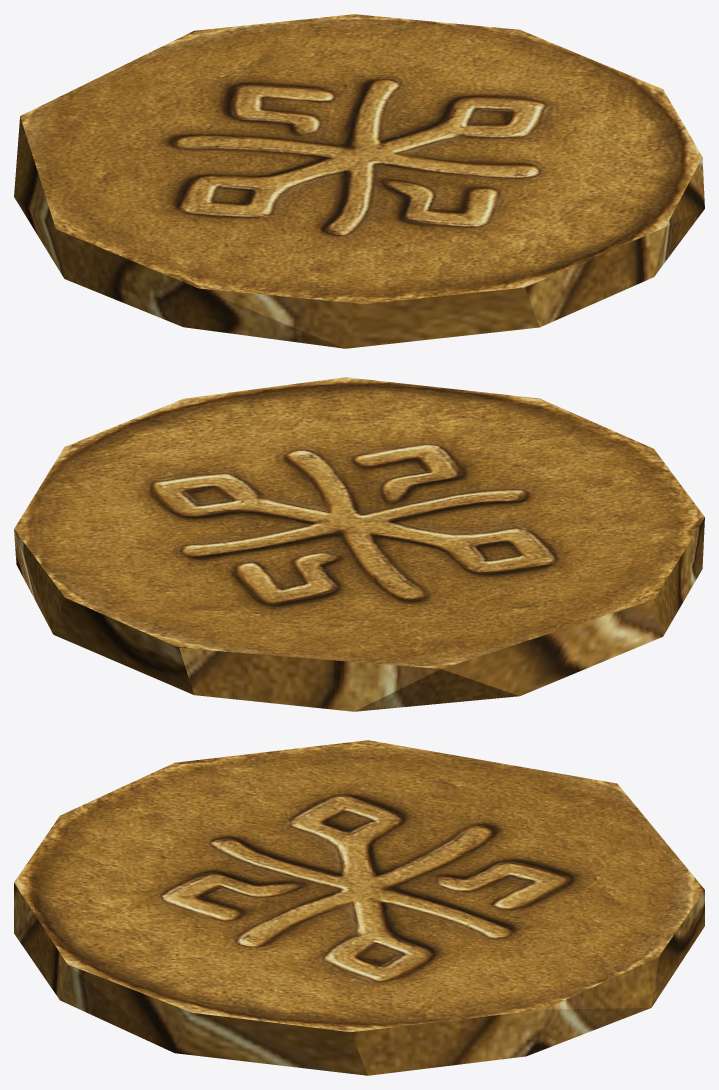
File: Coin.fbx
3 views of the same model, one above another, from view 1: azimuth 30°, elevation 25°; view 2: azimuth 150°, elevation 25°; view 3: azimuth 270°, elevation 25° (orthographic).
Visible parts, largest first — view 1: Circle; view 2: Circle; view 3: Circle.
Boxes of the visible parts, x1,y1,x2,y2 form: Circle: [14, 14, 704, 348]; Circle: [14, 377, 704, 711]; Circle: [14, 740, 704, 1075].
Size of the model in its own units: 2.02 by 0.1409 by 2.02.
1 material, 1 textured.
